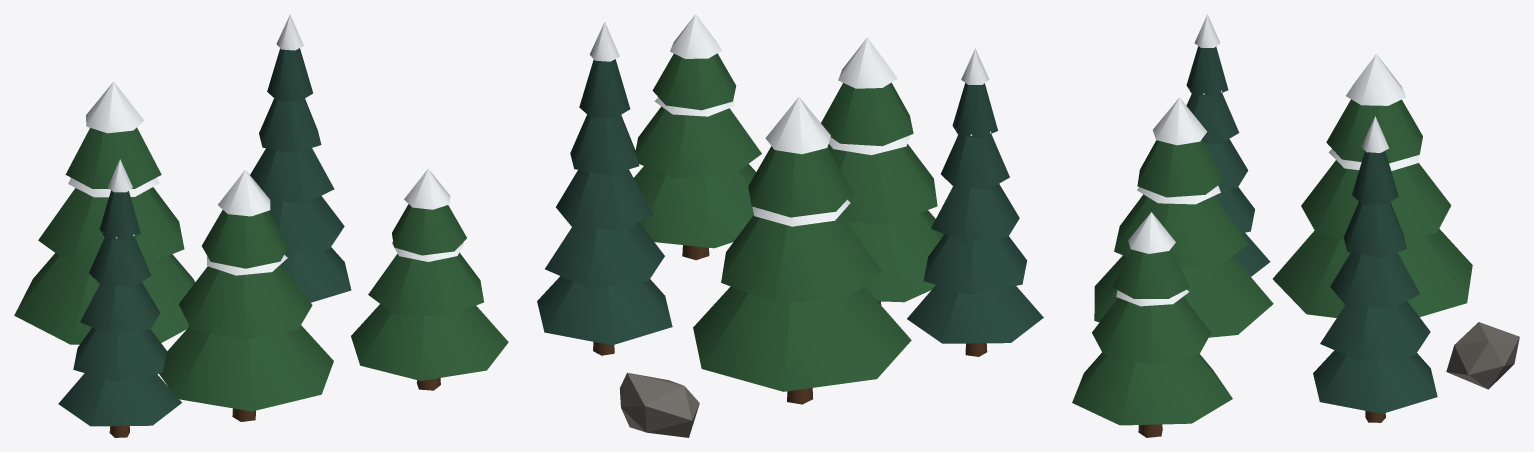
The model's file is sawyer_snowy_stand_b.glb.
3 views of the same model, side by side, from view 1: azimuth 30°, elevation 25°; view 2: azimuth 150°, elevation 25°; view 3: azimuth 270°, elevation 25° (orthographic). The views are drawn at different scales.
Parts seen in each view (by area): view 1: snowpine_2_tier0, snowpine_1_tier0, snowpine_0_tier0, snowpine_2_tier1, snowpine_0_tier1, snowpine_1_tier1, snowspruce_4_tier0, snowspruce_4_tier1, snowpine_0_tier2, snowpine_2_tier2, snowspruce_3_tier2, snowspruce_4_tier2 (+14 smaller); view 2: snowpine_0_tier0, snowpine_0_tier1, snowpine_1_tier0, snowspruce_3_tier0, snowpine_1_tier1, snowpine_2_tier1, snowspruce_4_tier0, snowpine_0_tier2, snowspruce_3_tier1, snowpine_2_tier0, snowspruce_4_tier1, snowspruce_3_tier2 (+16 smaller); view 3: snowpine_1_tier0, snowpine_0_tier0, snowpine_0_tier1, snowspruce_3_tier0, snowpine_1_tier1, snowpine_2_tier0, snowpine_2_tier1, snowspruce_3_tier1, snowpine_0_tier2, snowpine_2_tier2, snowspruce_3_tier2, rock_5_rock (+16 smaller).
Boxes of the visible parts, <box> form: snowpine_2_tier0: <box>159,325,333,411</box>; snowpine_1_tier0: <box>351,304,508,380</box>; snowpine_0_tier0: <box>14,253,195,344</box>; snowpine_2_tier1: <box>178,264,312,339</box>; snowpine_0_tier1: <box>38,187,184,265</box>; snowpine_1_tier1: <box>368,252,483,317</box>; snowspruce_4_tier0: <box>58,373,181,426</box>; snowspruce_4_tier1: <box>73,327,166,382</box>; snowpine_0_tier2: <box>65,127,161,188</box>; snowpine_2_tier2: <box>202,210,288,268</box>; snowspruce_3_tier2: <box>250,148,334,203</box>; snowspruce_4_tier2: <box>80,281,160,334</box>; snowpine_0_tier0: <box>693,286,911,391</box>; snowpine_0_tier1: <box>721,214,882,303</box>; snowpine_1_tier0: <box>634,164,755,248</box>; snowspruce_3_tier0: <box>537,276,672,345</box>; snowpine_1_tier1: <box>635,106,761,178</box>; snowpine_2_tier1: <box>827,144,937,224</box>; snowspruce_4_tier0: <box>907,285,1043,343</box>; snowpine_0_tier2: <box>748,146,852,217</box>; snowspruce_3_tier1: <box>545,222,664,287</box>; snowpine_2_tier0: <box>847,210,944,302</box>; snowspruce_4_tier1: <box>923,234,1027,294</box>; snowspruce_3_tier2: <box>556,169,653,230</box>; snowpine_1_tier0: <box>1072,352,1232,425</box>; snowpine_0_tier0: <box>1273,229,1472,317</box>; snowpine_0_tier1: <box>1301,160,1451,239</box>; snowspruce_3_tier0: <box>1313,350,1437,413</box>; snowpine_1_tier1: <box>1092,296,1210,364</box>; snowpine_2_tier0: <box>1094,255,1273,337</box>; snowpine_2_tier1: <box>1114,194,1248,268</box>; snowspruce_3_tier1: <box>1320,301,1430,360</box>; snowpine_0_tier2: <box>1326,99,1422,163</box>; snowpine_2_tier2: <box>1137,139,1224,197</box>; snowspruce_3_tier2: <box>1330,252,1420,308</box>; rock_5_rock: <box>1446,322,1519,389</box>.
Bounding box in the file's own units: 4.21 × 3.17 × 4.09.
